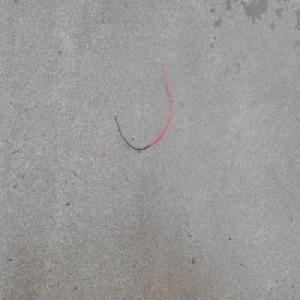Wire: (109, 55, 173, 152)
